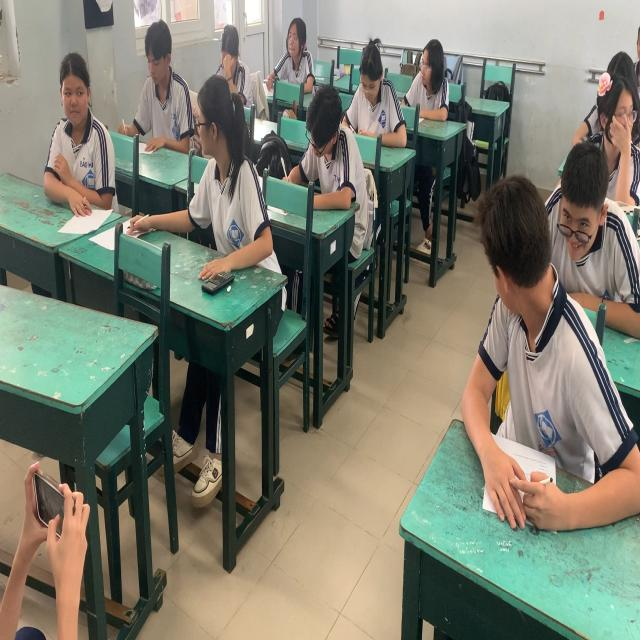cheating: (454, 181, 634, 526), (160, 81, 280, 253), (38, 56, 120, 225), (540, 143, 622, 260)
not_cheating: (125, 8, 194, 139), (575, 60, 637, 181), (347, 47, 412, 153), (297, 87, 361, 194), (204, 8, 258, 105), (408, 32, 450, 132), (268, 8, 316, 84)
